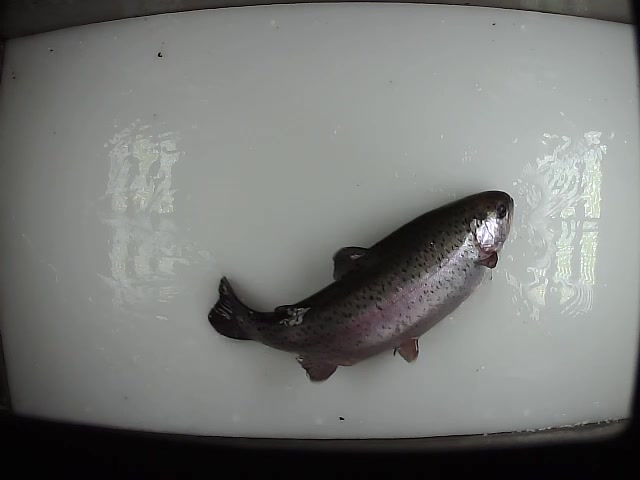fish: (205, 187, 517, 385)
